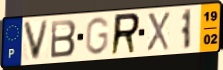1: (180, 7, 194, 52)
B: (50, 18, 78, 60)
G: (84, 15, 111, 56)
R: (109, 11, 142, 57)
V: (22, 18, 51, 62)
X: (146, 11, 171, 53)
